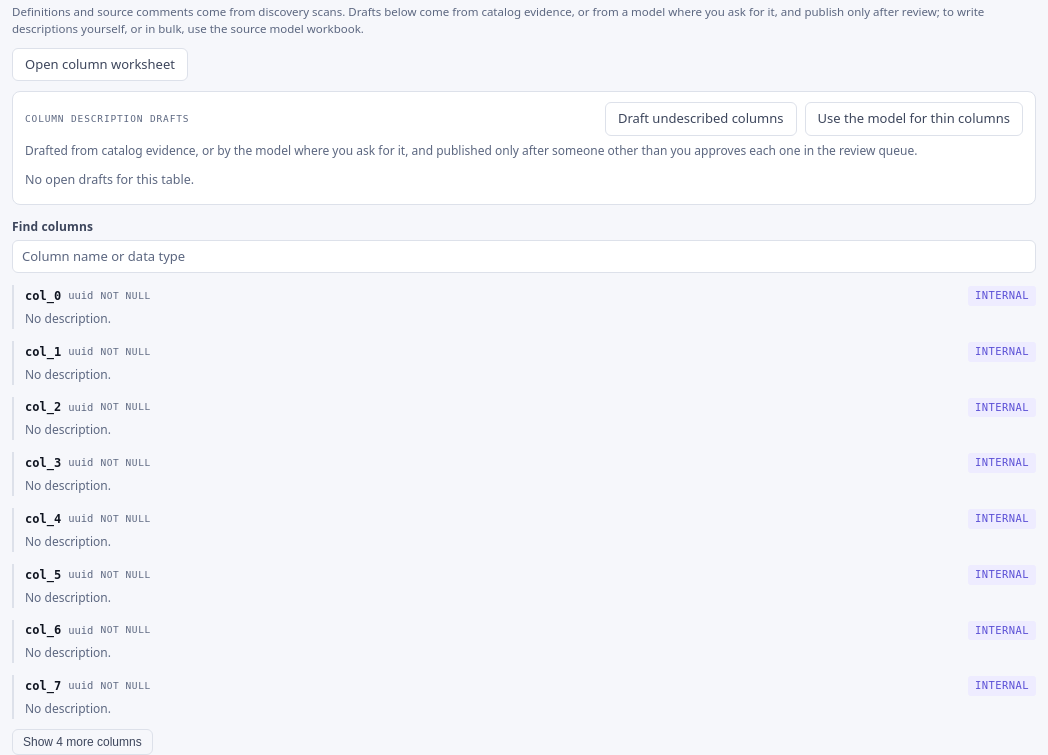
Test: collapses a wide table behind a show-more control
(page scrolled)
Expected: the text "col_0" is shown, x1=25 y1=287 x2=61 y2=305
Expected: the text "col_11" is not shown
Click the button "Show 4 more columns" at (82, 742), box x1=12 y1=729 x2=153 y2=754
(page scrolled)
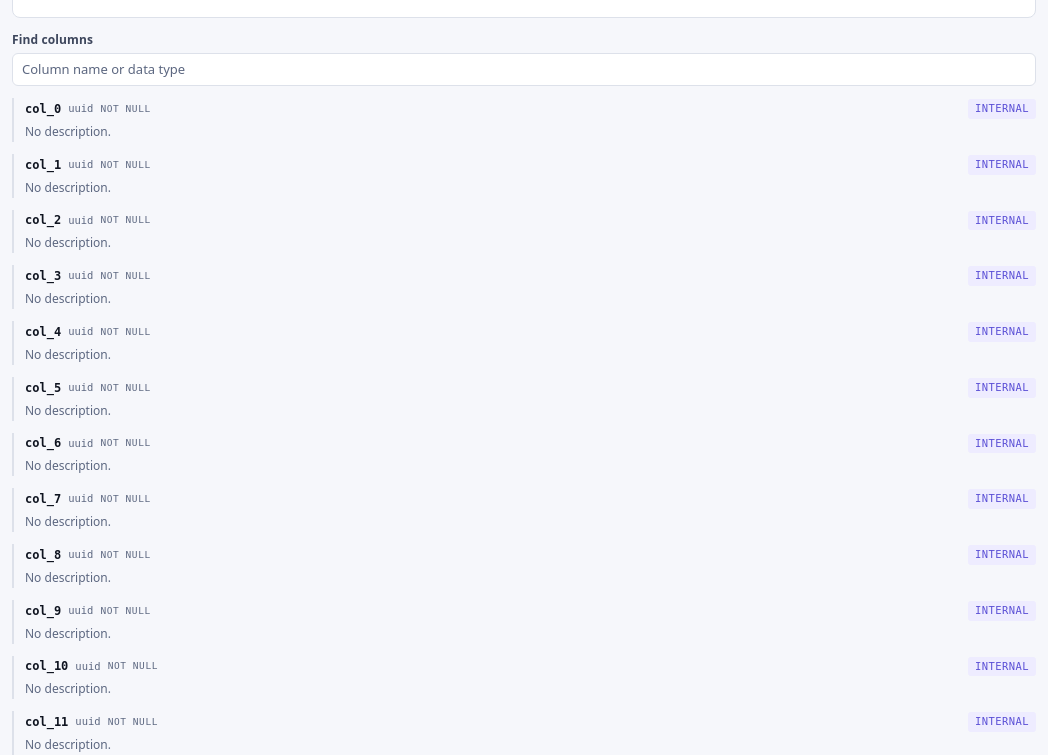
Expected: the text "col_11" is shown, x1=25 y1=713 x2=68 y2=731
